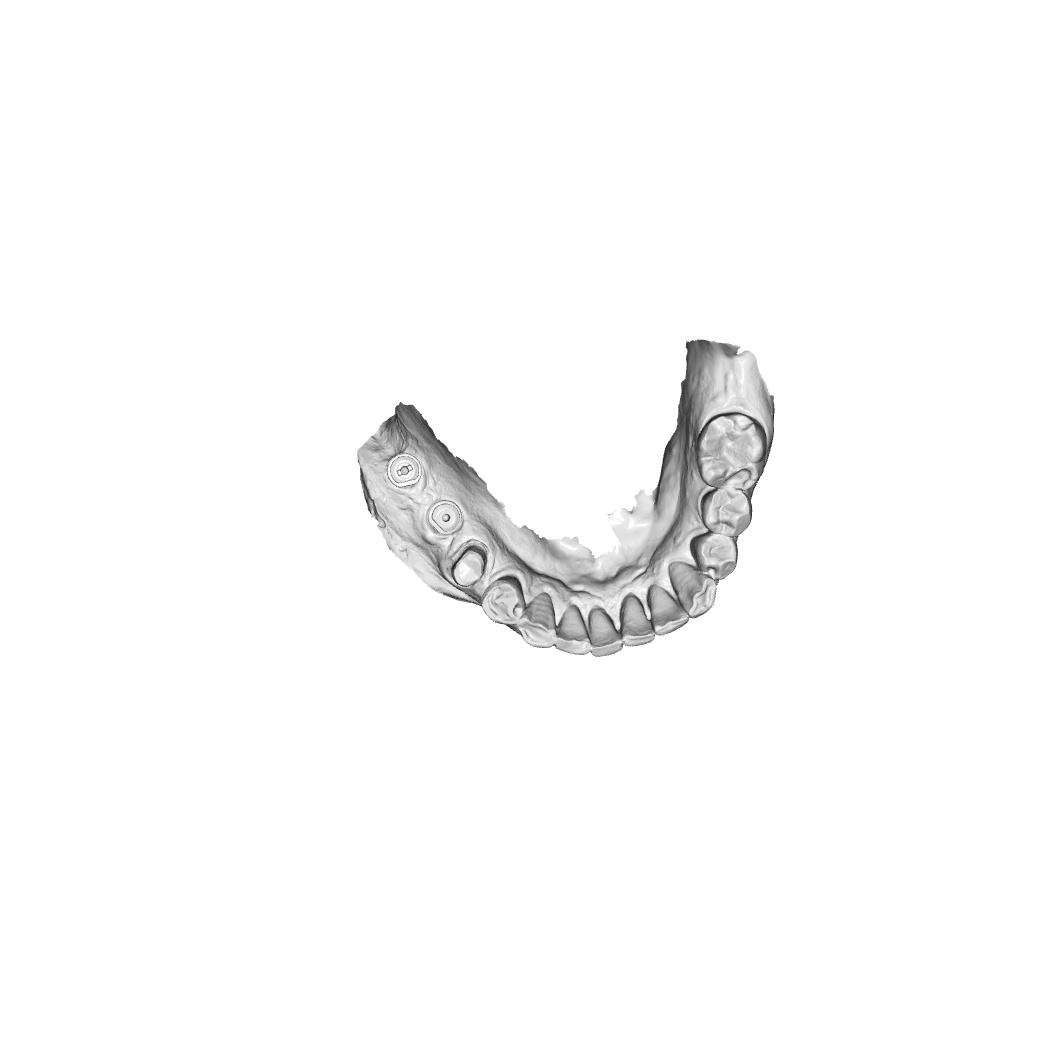canine: (668, 561, 718, 619), (516, 592, 557, 649)
crown: (447, 539, 491, 589)
implant: (429, 500, 463, 534)
implant_minus: (386, 452, 423, 490)
incisor: (647, 583, 690, 637), (619, 594, 657, 647), (589, 606, 626, 658), (555, 604, 592, 656)
molar: (695, 411, 768, 492)
premolar: (700, 488, 753, 537), (690, 532, 740, 582), (479, 576, 526, 628)
